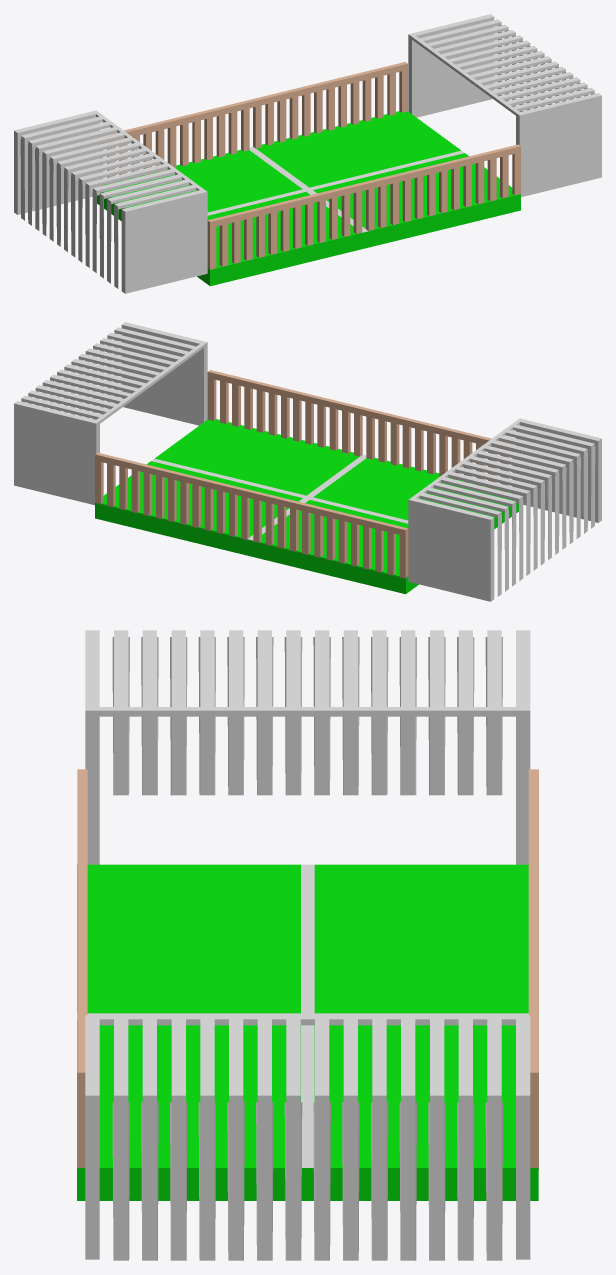
Rendered from Terrain.fbx.
3 views of the same model, one above another, from view 1: azimuth 30°, elevation 25°; view 2: azimuth 150°, elevation 25°; view 3: azimuth 270°, elevation 25° (orthographic). The views are drawn at different scales.
Visible parts, largest first — view 1: Terrain, Cage1, Cage2, barriere1, Carriere2; view 2: Terrain, Cage1, Cage2, Carriere2, barriere1; view 3: Terrain, Cage2, Cage1, Carriere2, barriere1.
Part boxes in pixels (box(x1,y1,x2,y2)): Terrain: box(97, 111, 520, 286); Cage1: box(14, 110, 207, 293); Cage2: box(408, 14, 601, 197); barriere1: box(207, 144, 520, 269); Carriere2: box(100, 62, 407, 186); Terrain: box(95, 419, 518, 594); Cage1: box(408, 418, 601, 601); Cage2: box(14, 322, 207, 505); Carriere2: box(95, 452, 408, 578); barriere1: box(207, 370, 515, 494); Terrain: box(77, 864, 538, 1200); Cage2: box(85, 1015, 530, 1260); Cage1: box(85, 630, 530, 864); Carriere2: box(528, 769, 538, 1169); barriere1: box(77, 769, 87, 1167).
Bounding box in the file's own units: 1217 × 227 × 511.
